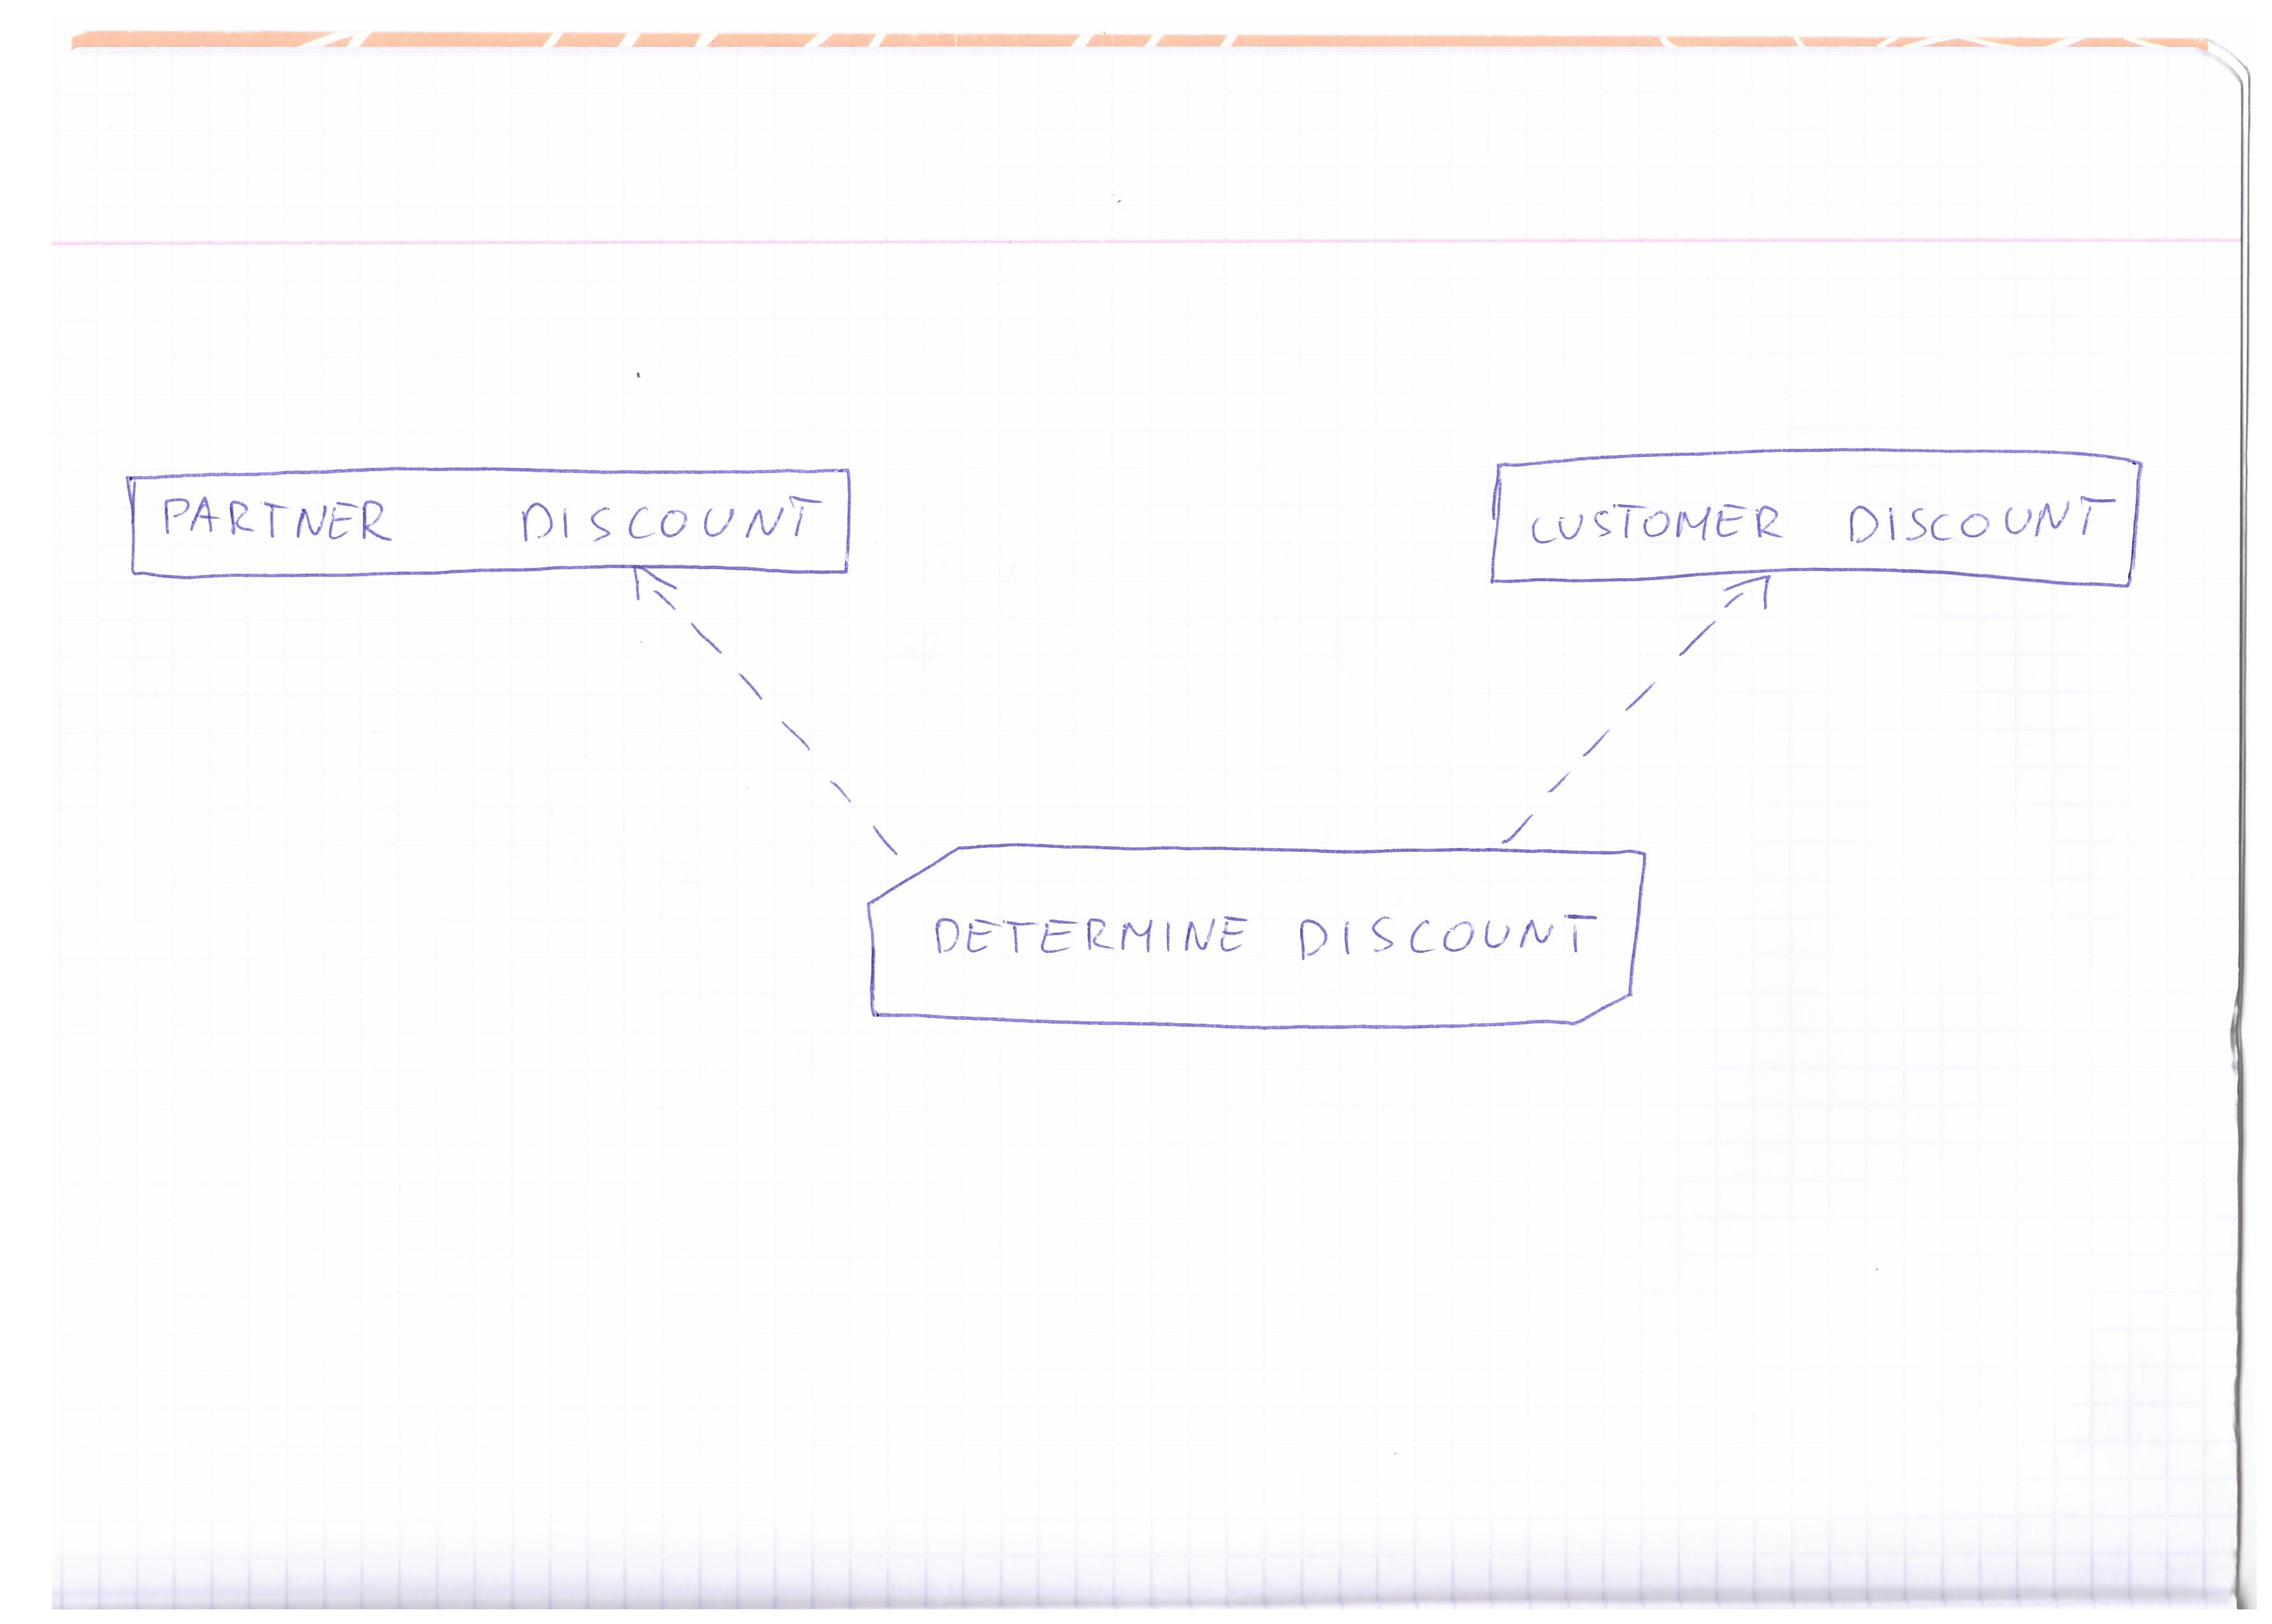arrow_knowledge_requirement: (615, 564, 914, 863), (1483, 566, 1785, 847)
node_decision: (1478, 441, 2147, 598), (102, 455, 859, 578)
node_knowledge_model: (842, 840, 1671, 1037)
text: (923, 889, 1608, 981), (160, 485, 828, 555), (1520, 482, 2119, 559)
